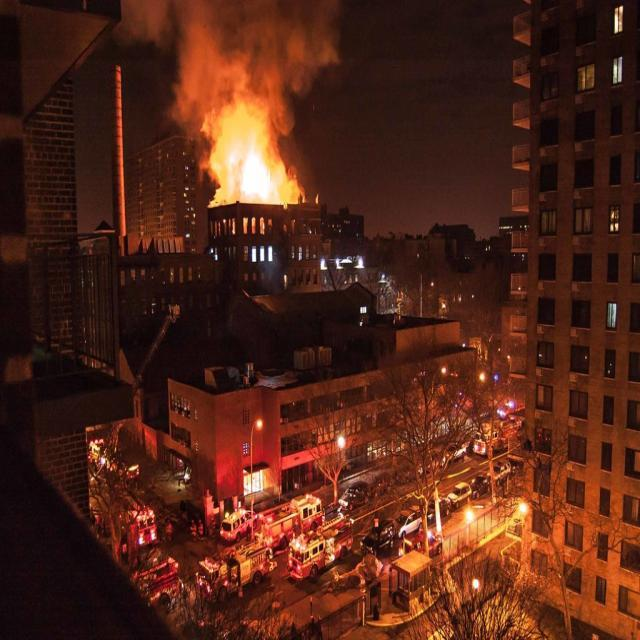Fire: (201, 99, 306, 208), (244, 218, 248, 234), (252, 218, 256, 234), (260, 218, 264, 234), (232, 218, 235, 234), (268, 220, 272, 226)
Smoke: (120, 0, 345, 137)
